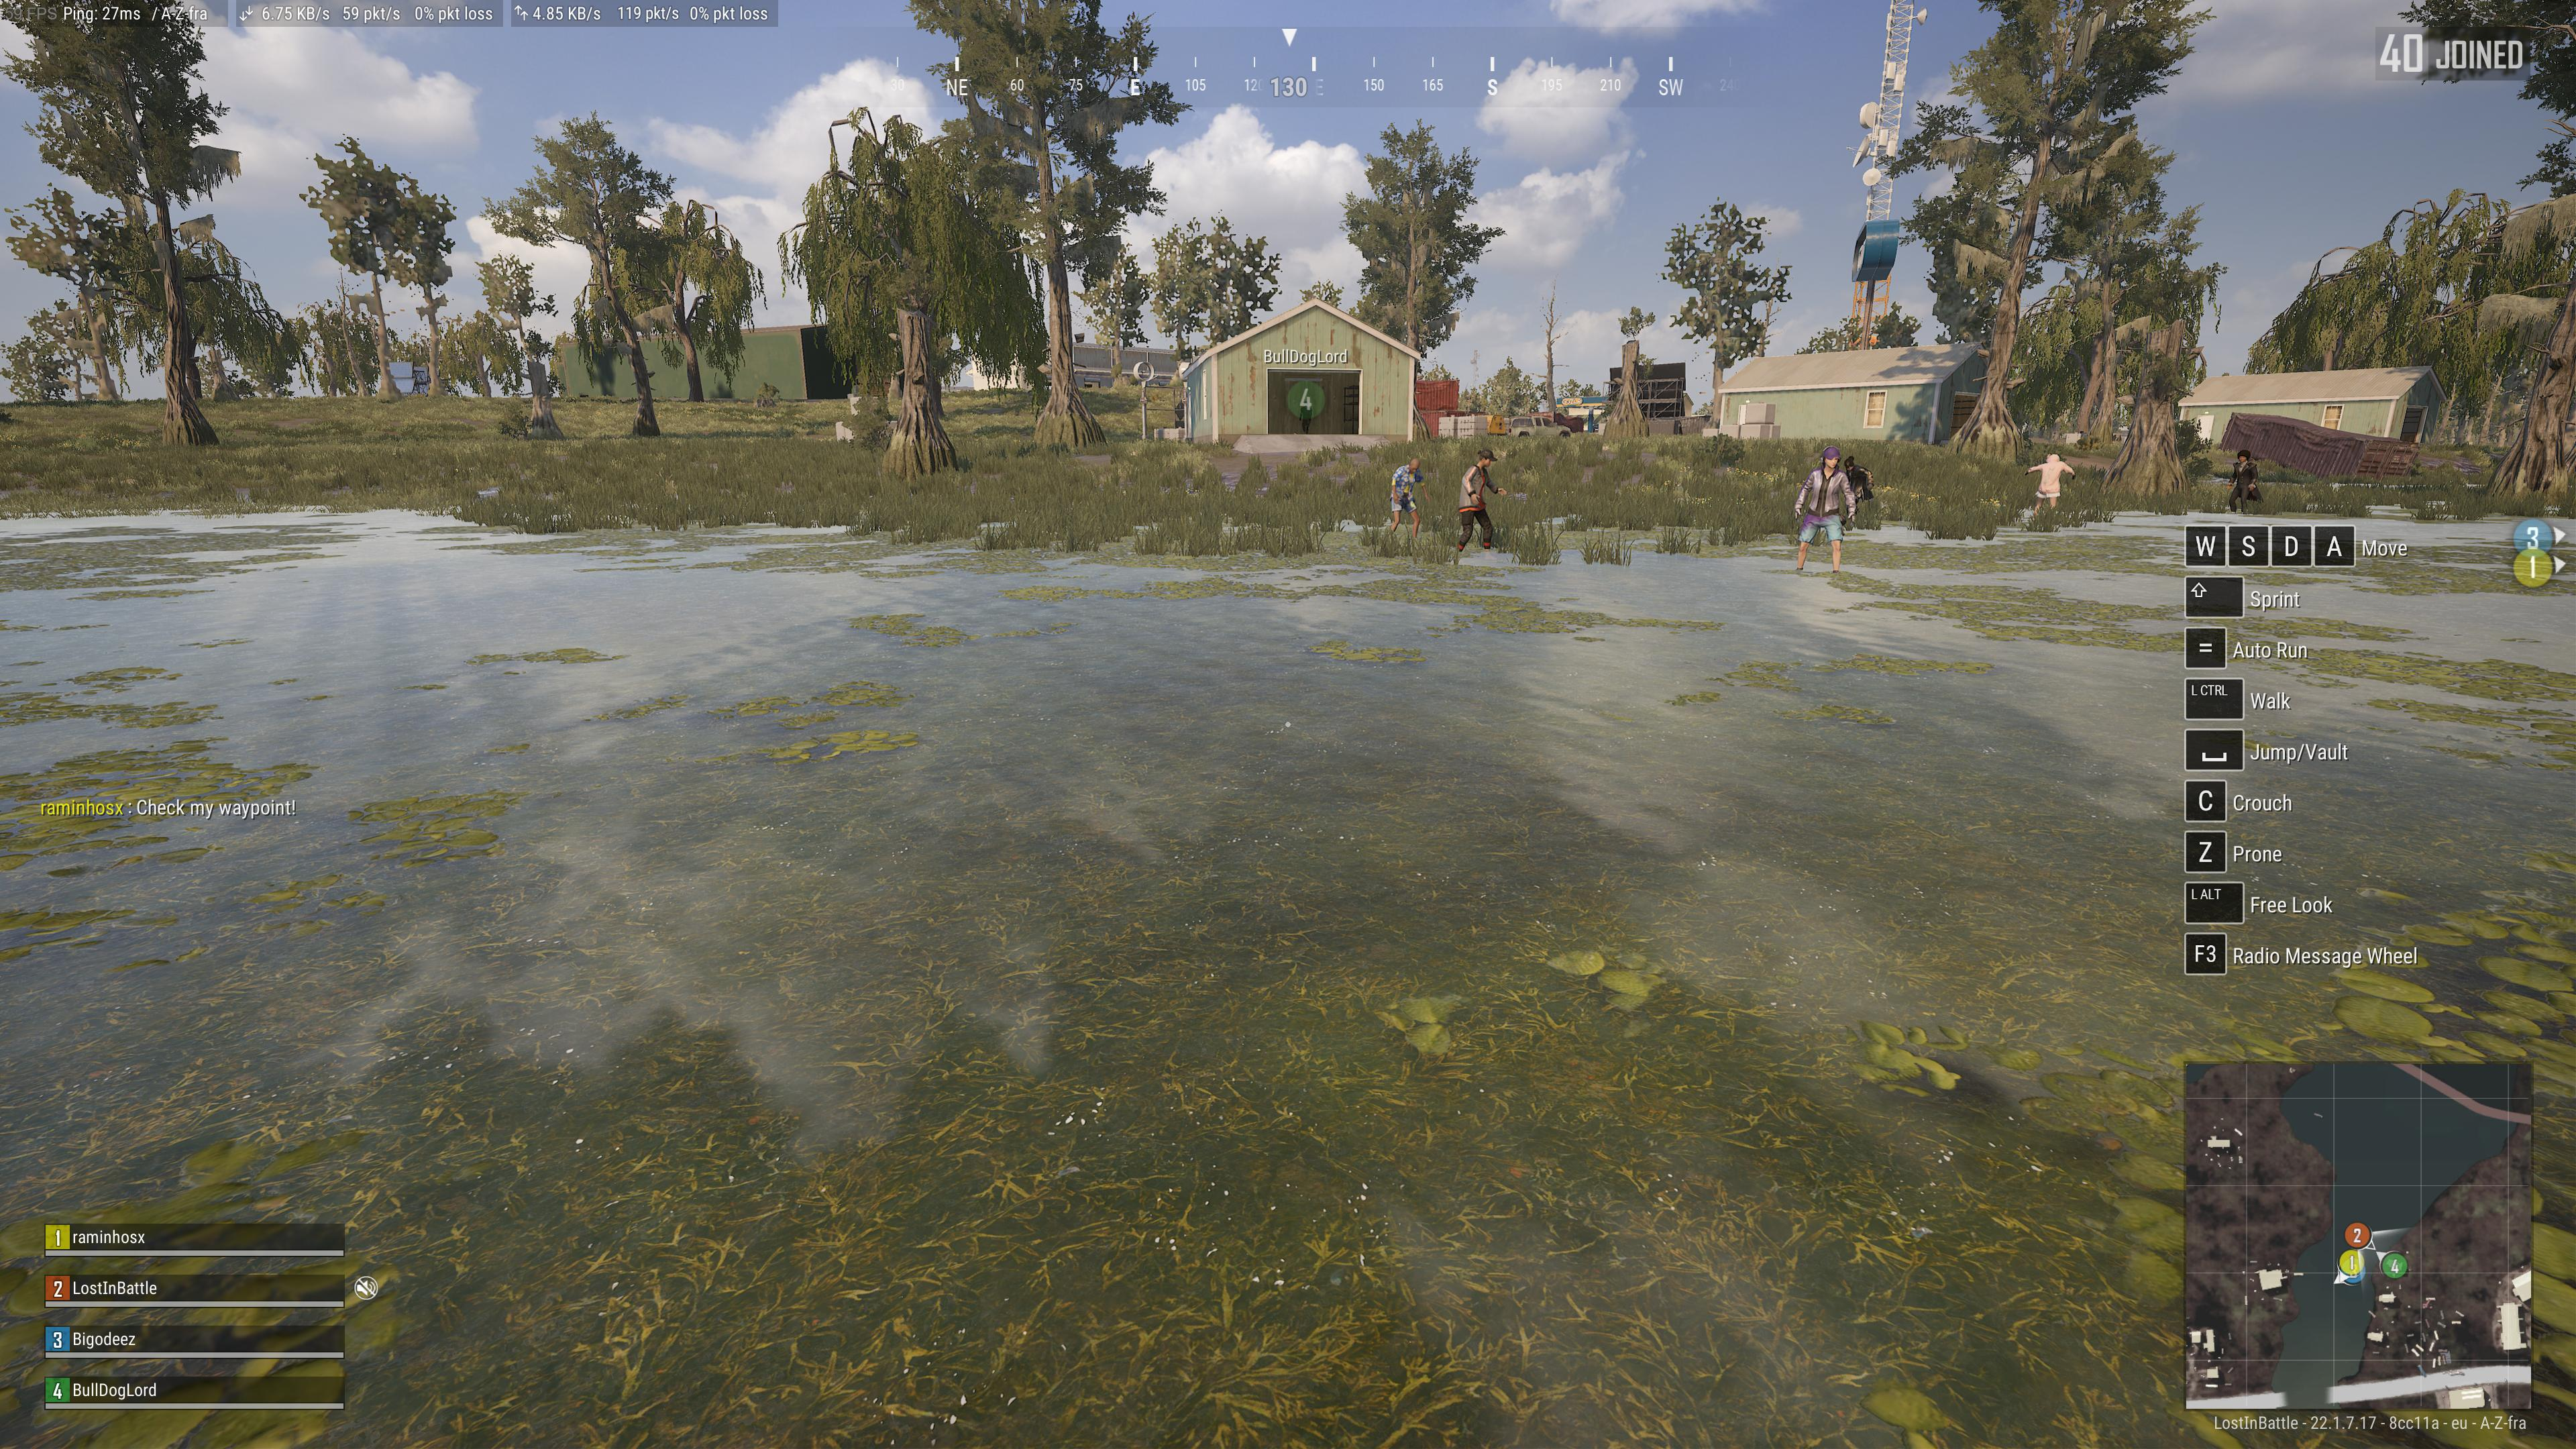enemy: (1794, 444, 1858, 575), (1456, 448, 1507, 561), (1389, 458, 1431, 540), (2024, 453, 2077, 515), (2226, 448, 2259, 515), (1844, 455, 1874, 510)
enemy_head: (1821, 444, 1840, 469), (1477, 449, 1497, 467), (2236, 449, 2250, 464), (1844, 455, 1854, 472), (2045, 453, 2059, 465)
friendly: (1297, 396, 1315, 433)
